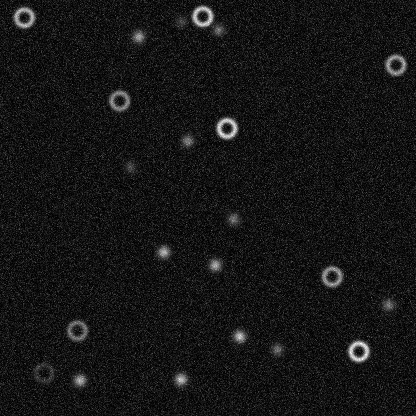Ring: (346, 339, 370, 363), (11, 5, 35, 29), (319, 264, 343, 288), (31, 360, 55, 384), (190, 4, 214, 28), (214, 116, 238, 140), (65, 318, 89, 342), (383, 52, 407, 76), (107, 88, 131, 112)
Spot: (231, 328, 247, 344), (225, 211, 241, 227), (210, 21, 226, 37), (269, 341, 285, 357), (380, 296, 396, 312), (179, 132, 195, 148), (130, 28, 146, 44), (173, 13, 189, 29), (155, 243, 171, 259), (206, 256, 222, 272), (71, 372, 87, 388), (172, 371, 188, 387), (122, 158, 138, 174)
